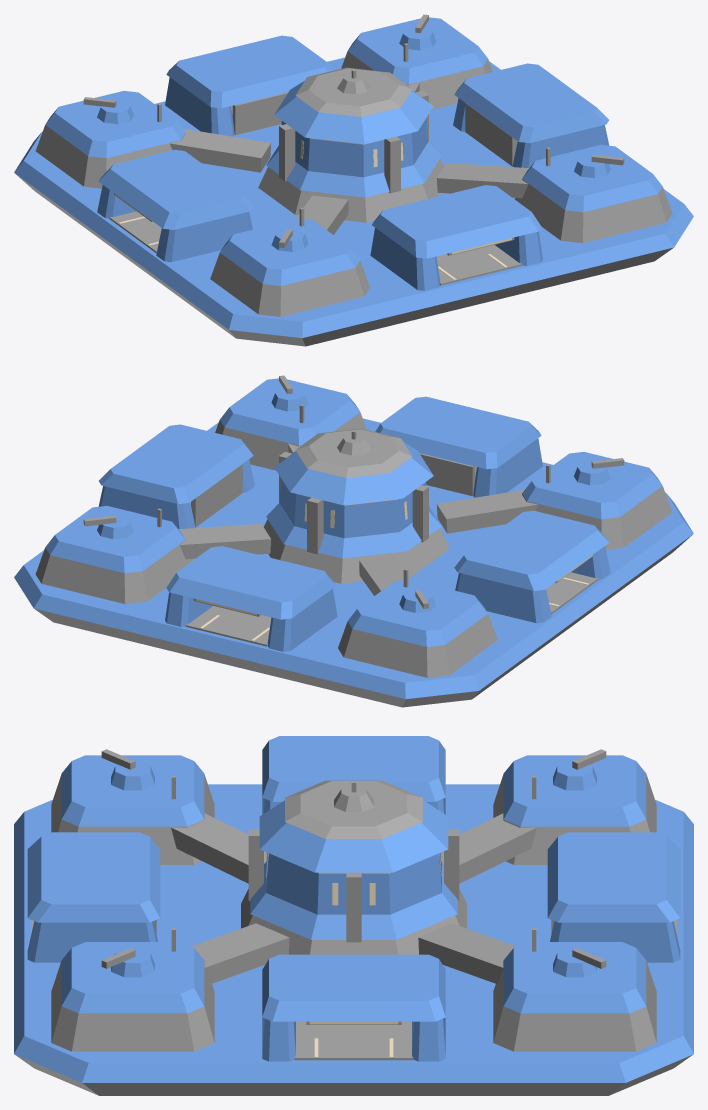
The model's file is CommandStation_L1.glb.
The picture shows the model from 3 angles, top to bottom: view 1: azimuth 30°, elevation 25°; view 2: azimuth 150°, elevation 25°; view 3: azimuth 270°, elevation 25°; orthographic projection. The views are drawn at different scales.
Visible parts, largest first — view 1: Citadel deck, Dock armored roof 0, Dock armored roof 3, Dock armored roof 1, Dock armored roof 2, Bastion armor cap -1 -1, Bastion armor cap 1 -1, Bastion armor cap -1 1, Bastion armor cap 1 1, Undercut armor apron, Bastion armored footing -1 -1, Bastion armored footing 1 -1 (+27 smaller); view 2: Citadel deck, Dock armored roof 2, Dock armored roof 3, Dock armored roof 1, Dock armored roof 0, Bastion armor cap -1 1, Bastion armor cap 1 1, Bastion armor cap -1 -1, Bastion armor cap 1 -1, Undercut armor apron, Bastion armored footing -1 1, Bastion armored footing 1 1 (+27 smaller); view 3: Citadel deck, Dock armored roof 1, Dock armored roof 0, Dock armored roof 2, Dock armored roof 3, Bastion armor cap 1 -1, Bastion armor cap 1 1, Bastion armor cap -1 -1, Bastion armor cap -1 1, Undercut armor apron, Command gallery roof, Bastion armored footing 1 -1 (+24 smaller).
Boxes of the visible parts, box(x1,y1,x2,y2) form: Citadel deck: box(14, 57, 693, 337); Dock armored roof 0: box(372, 185, 541, 258); Dock armored roof 3: box(98, 149, 253, 229); Dock armored roof 1: box(454, 63, 608, 143); Dock armored roof 2: box(166, 35, 332, 108); Bastion armor cap -1 -1: box(220, 218, 360, 285); Bastion armor cap 1 -1: box(522, 145, 662, 212); Bastion armor cap -1 1: box(45, 91, 185, 158); Bastion armor cap 1 1: box(348, 17, 487, 84); Undercut armor apron: box(16, 174, 673, 346); Bastion armored footing -1 -1: box(210, 253, 369, 316); Bastion armored footing 1 -1: box(514, 179, 672, 242); Citadel deck: box(14, 418, 693, 698); Dock armored roof 2: box(166, 546, 335, 619); Dock armored roof 3: box(454, 510, 609, 590); Dock armored roof 1: box(99, 424, 253, 504); Dock armored roof 0: box(375, 396, 541, 469); Bastion armor cap -1 1: box(347, 579, 487, 646); Bastion armor cap 1 1: box(45, 506, 185, 573); Bastion armor cap -1 -1: box(522, 452, 662, 519); Bastion armor cap 1 -1: box(220, 378, 359, 445); Undercut armor apron: box(34, 535, 691, 707); Bastion armored footing -1 1: box(338, 614, 497, 677); Bastion armored footing 1 1: box(35, 540, 193, 603); Citadel deck: box(14, 784, 693, 1082); Dock armored roof 1: box(262, 954, 445, 1021); Dock armored roof 0: box(27, 832, 160, 922); Dock armored roof 2: box(547, 832, 680, 922); Dock armored roof 3: box(262, 736, 445, 801); Bastion armor cap 1 -1: box(61, 942, 204, 1013); Bastion armor cap 1 1: box(503, 942, 646, 1013); Bastion armor cap -1 -1: box(61, 755, 204, 826); Bastion armor cap -1 1: box(503, 755, 646, 826); Undercut armor apron: box(15, 1054, 692, 1095); Command gallery roof: box(259, 800, 448, 872); Bastion armored footing 1 -1: box(51, 961, 214, 1051).
Bounding box in the file's own units: 200 × 77 × 200.
